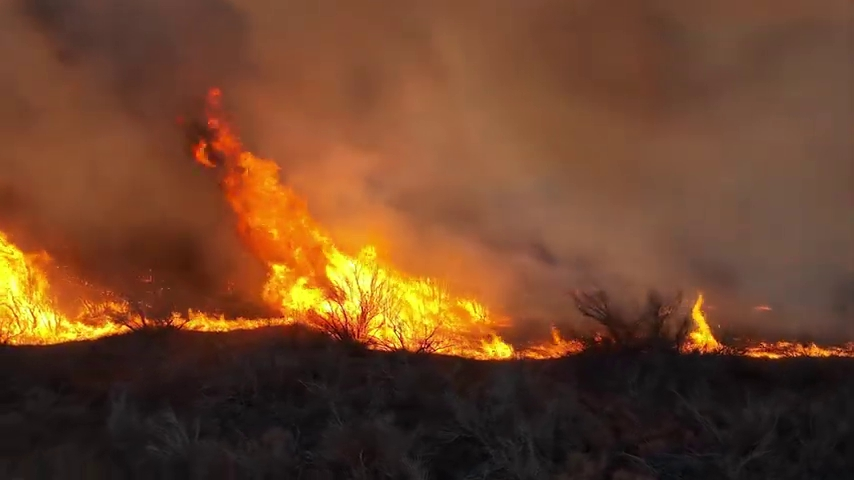forest_fire: (168, 89, 583, 357), (0, 233, 145, 342), (683, 294, 853, 356)
